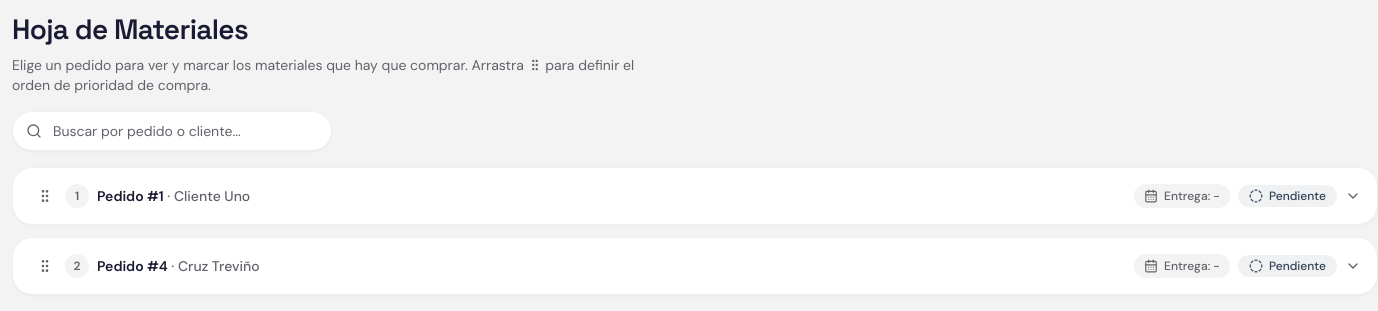
HojaMaterialesPage › filtra por texto de búsqueda (cliente o número de pedido)
Type "Treviño" into the field with placeholder "Buscar por pedido o cliente...".
click(172, 131); type("Treviño")  # box [12, 111, 332, 151]
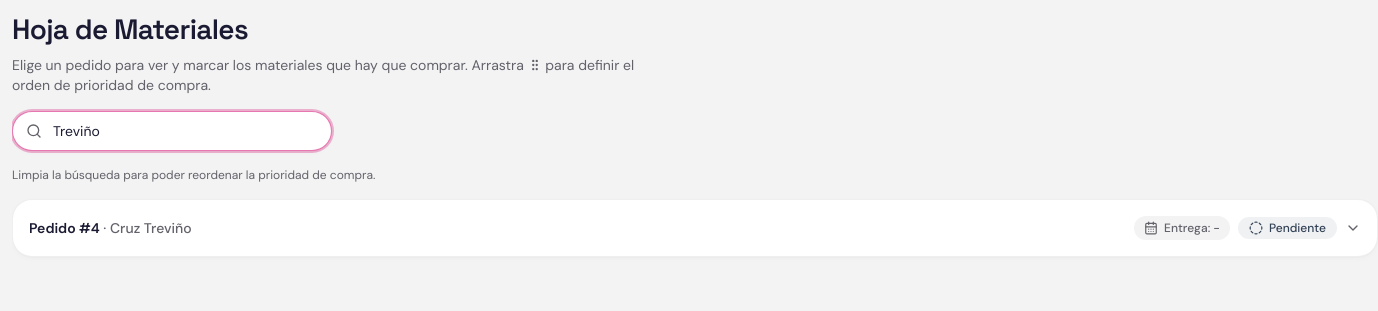
Expected: the text "Pedido #4" is shown, [29, 219, 100, 237]
Result: the button "Pedido #1" is gone
